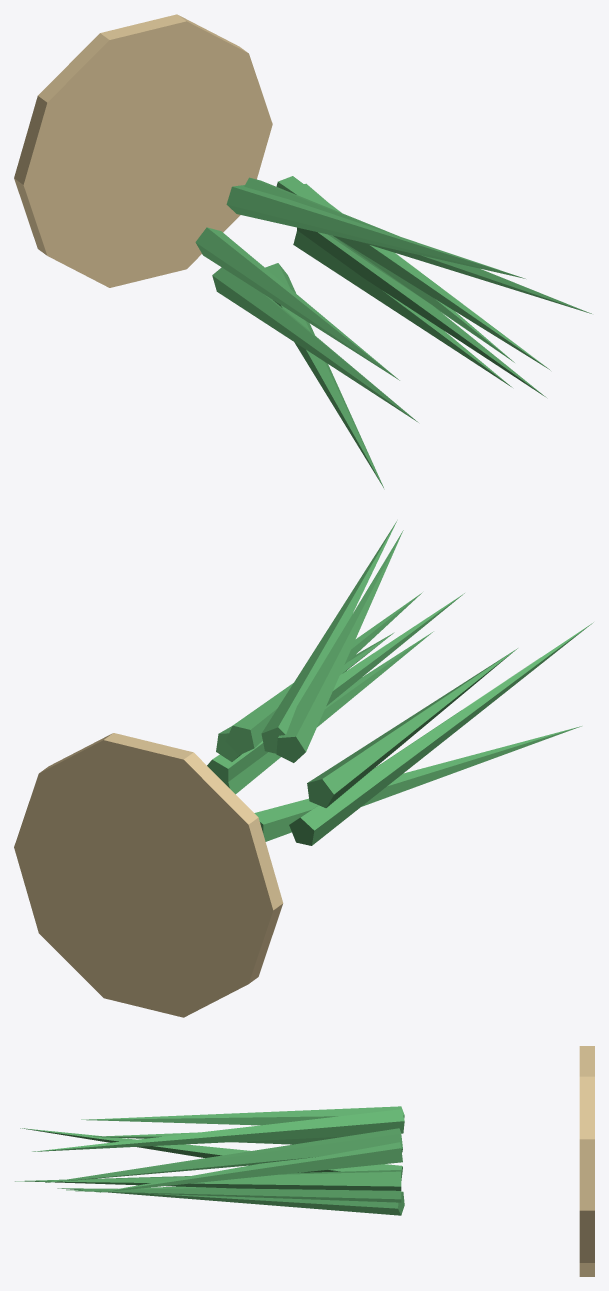
File: underwater_kelp_bundle.glb
3 renders of one model, top to bottom at view 1: azimuth 30°, elevation 25°; view 2: azimuth 150°, elevation 25°; view 3: azimuth 270°, elevation 25°, orthographic. The views are drawn at different scales.
Parts seen in each view (by area): view 1: sand_base, kelp_2, kelp_3, kelp_4, kelp_0, kelp_1, kelp_6, kelp_8, kelp_5, kelp_7; view 2: sand_base, kelp_4, kelp_2, kelp_3, kelp_5, kelp_8, kelp_0, kelp_1, kelp_6, kelp_7; view 3: kelp_8, kelp_0, kelp_1, sand_base, kelp_7, kelp_6, kelp_2, kelp_5, kelp_4, kelp_3.
Part boxes in pixels (bbox=[...]): sand_base: bbox=[14, 14, 272, 287]; kelp_2: bbox=[226, 185, 525, 278]; kelp_3: bbox=[195, 227, 399, 380]; kelp_4: bbox=[212, 267, 418, 422]; kelp_0: bbox=[297, 227, 546, 397]; kelp_1: bbox=[276, 176, 550, 370]; kelp_6: bbox=[293, 230, 512, 387]; kelp_8: bbox=[244, 177, 591, 313]; kelp_5: bbox=[265, 263, 384, 489]; kelp_7: bbox=[304, 183, 514, 362]; sand_base: bbox=[14, 733, 283, 1017]; kelp_4: bbox=[289, 622, 593, 845]; kelp_2: bbox=[276, 530, 403, 762]; kelp_3: bbox=[307, 648, 517, 807]; kelp_5: bbox=[254, 726, 581, 841]; kelp_8: bbox=[261, 520, 397, 753]; kelp_0: bbox=[207, 593, 464, 786]; kelp_1: bbox=[225, 592, 422, 755]; kelp_6: bbox=[219, 631, 433, 794]; kelp_7: bbox=[216, 632, 394, 761]; kelp_8: bbox=[32, 1109, 404, 1151]; kelp_0: bbox=[15, 1170, 401, 1190]; kelp_1: bbox=[45, 1128, 402, 1182]; sand_base: bbox=[579, 1046, 594, 1276]; kelp_7: bbox=[96, 1142, 402, 1192]; kelp_6: bbox=[66, 1186, 401, 1202]; kelp_2: bbox=[81, 1106, 404, 1125]; kelp_5: bbox=[57, 1188, 404, 1215]; kelp_4: bbox=[20, 1128, 402, 1180]; kelp_3: bbox=[93, 1132, 343, 1144].
Size of the model in its own units: 0.9 by 0.856 by 2.25.
